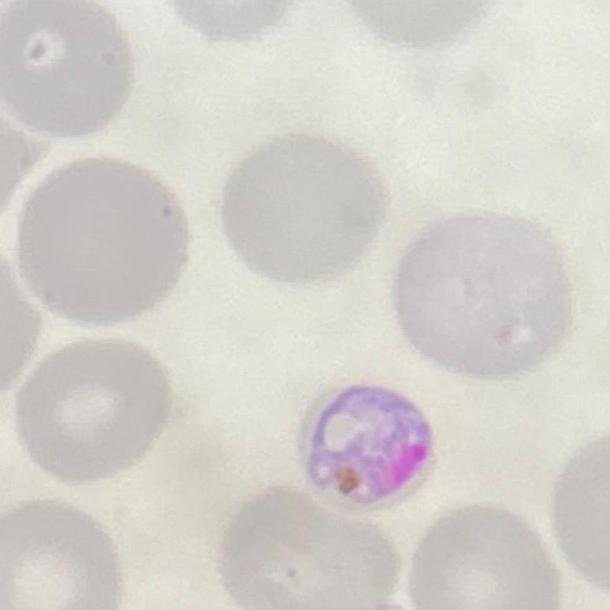Infected: (290, 372, 437, 516)
Uninfected: (393, 217, 571, 375), (18, 164, 186, 321), (223, 136, 388, 281), (13, 337, 168, 479), (218, 487, 395, 610), (0, 0, 133, 135), (408, 511, 568, 610), (0, 502, 125, 610)
